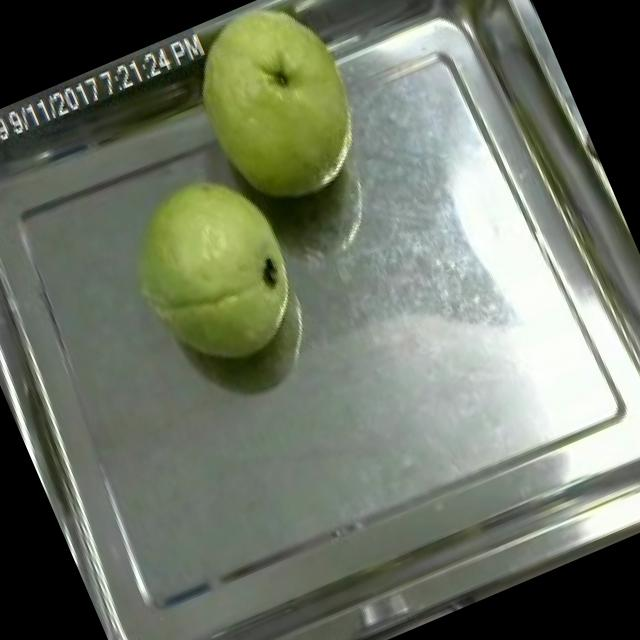Fruit: (96, 148, 326, 395), (163, 0, 394, 231)
